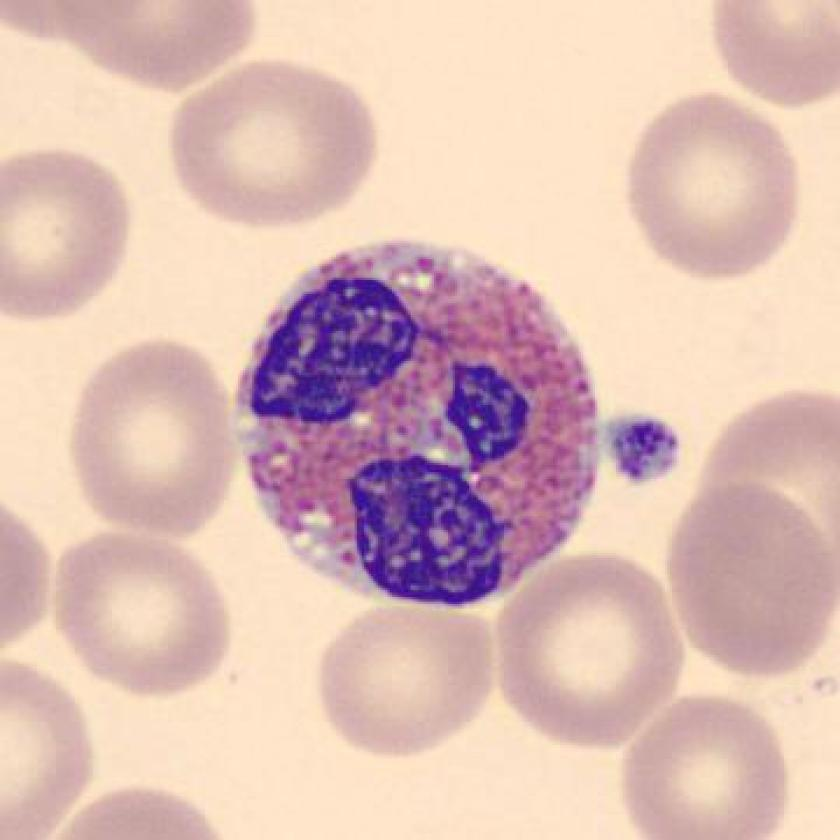eosinophil: (223, 228, 612, 617)
